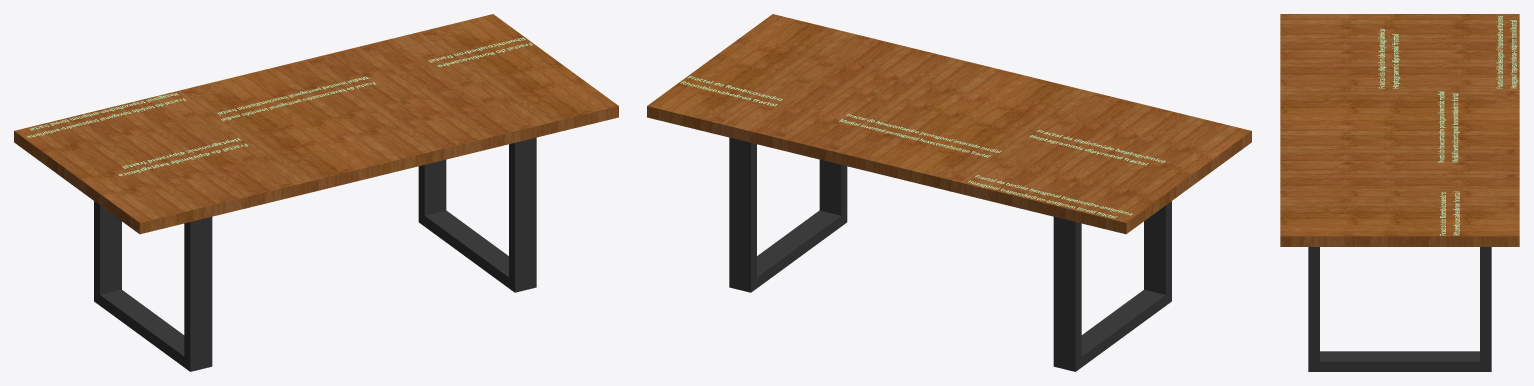
The model's file is fractal_nonconvex6b.glb.
3 views of the same model, side by side, from view 1: azimuth 30°, elevation 25°; view 2: azimuth 150°, elevation 25°; view 3: azimuth 270°, elevation 25° (orthographic). The views are drawn at different scales.
Parts seen in each view (by area): view 1: object 1, Composant#1 (×2), Fractal do hexec, Fractal do torói, Fractal da dipir; view 2: object 1, Composant#1 (×2), Fractal do torói, Fractal do hexec, Fractal da dipir; view 3: object 1, Composant#1, Fractal do torói, Fractal do hexec, Fractal da dipir, Fractal do Rombi.
Boxes of the visible parts, left/top/right/bottom form: object 1: left=14, top=14, right=618, bottom=234; Composant#1 (×2): left=94, top=137, right=536, bottom=371; Fractal do hexec: left=217, top=76, right=375, bottom=121; Fractal do torói: left=27, top=93, right=185, bottom=137; Fractal da dipir: left=118, top=138, right=248, bottom=175; object 1: left=647, top=14, right=1251, bottom=234; Composant#1 (×2): left=729, top=137, right=1171, bottom=371; Fractal do torói: left=967, top=175, right=1132, bottom=218; Fractal do hexec: left=839, top=114, right=1001, bottom=157; Fractal da dipir: left=1029, top=129, right=1165, bottom=165; object 1: left=1280, top=14, right=1519, bottom=246; Composant#1: left=1308, top=247, right=1491, bottom=371; Fractal do torói: left=1496, top=16, right=1517, bottom=88; Fractal do hexec: left=1438, top=91, right=1459, bottom=162; Fractal da dipir: left=1378, top=29, right=1400, bottom=88; Fractal do Rombi: left=1440, top=191, right=1459, bottom=235.
Bounding box in the file's own units: 2.2 × 0.771 × 1.
Materials: 3 (1 with a texture image).
